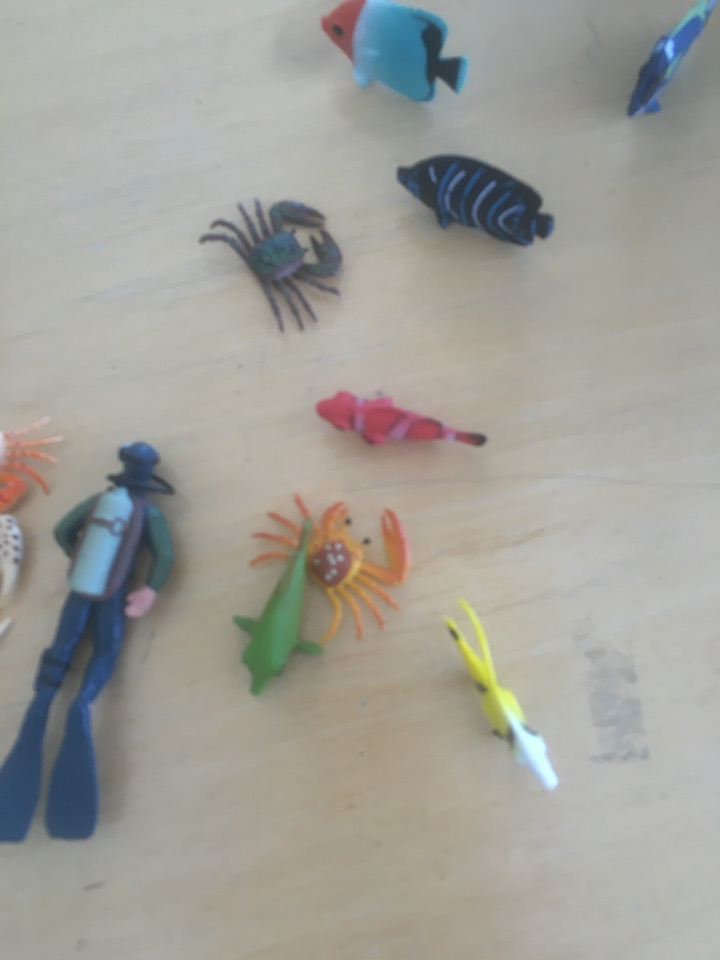crab: (245, 488, 414, 643), (197, 193, 347, 337), (1, 405, 65, 513)
danger: (439, 598, 562, 795)
diver: (1, 439, 179, 849)
fish: (229, 511, 325, 708), (393, 152, 558, 251), (318, 1, 471, 107), (621, 1, 720, 125), (312, 386, 491, 454)
